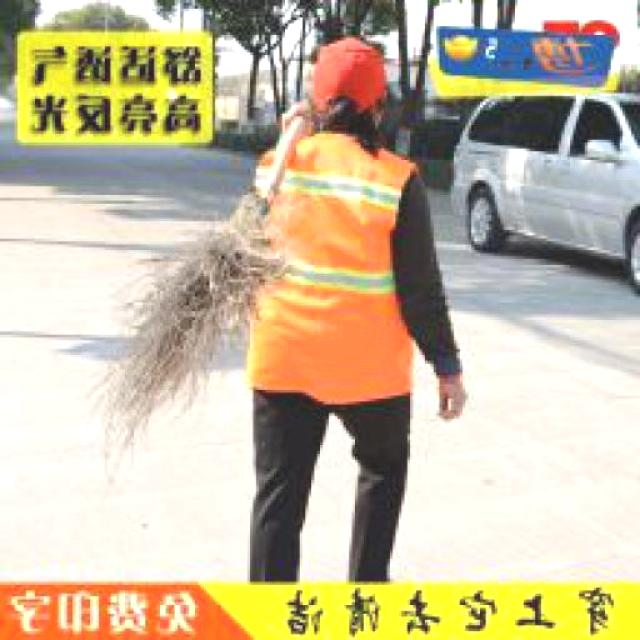hand_noglove: (429, 370, 473, 420)
head_nohelmet: (291, 29, 393, 140)
person: (224, 27, 478, 584)
vest: (247, 131, 419, 413)
